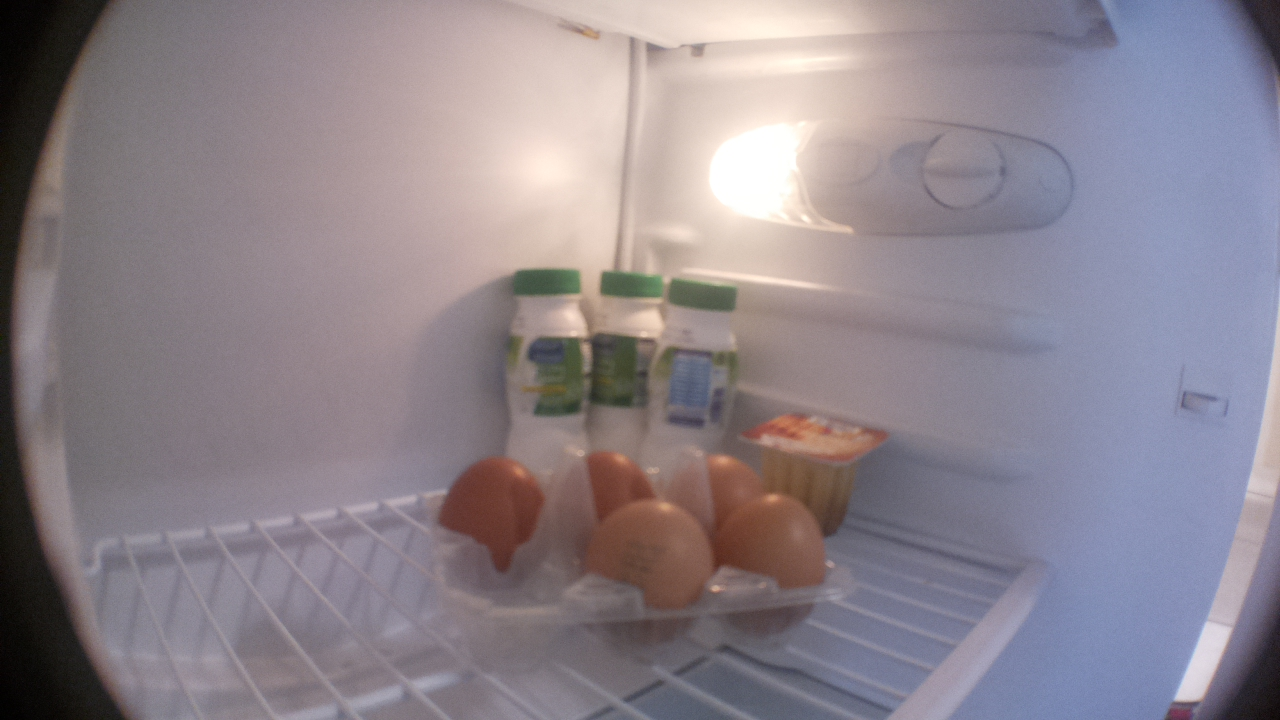caramel: (735, 408, 895, 541)
egg: (580, 499, 723, 652), (717, 496, 833, 640), (431, 457, 542, 592), (559, 447, 664, 511), (678, 454, 770, 504)
laban: (644, 278, 749, 481), (495, 264, 592, 483), (588, 270, 666, 485)
